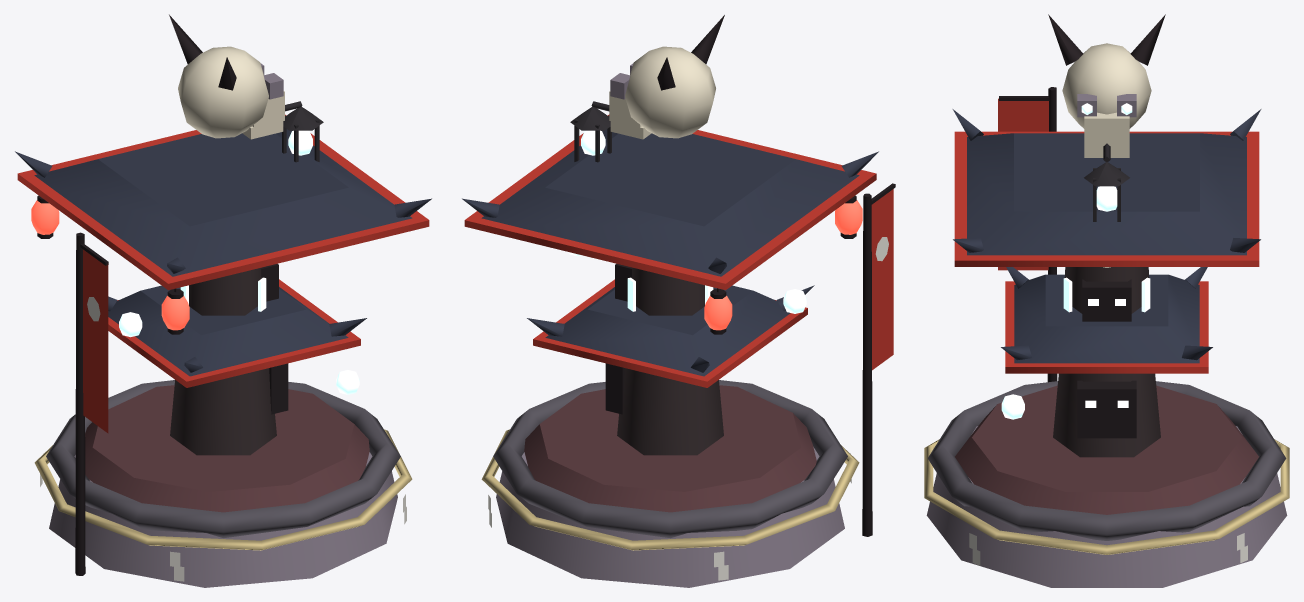
Rendered from tower_necromancer.glb.
3 renders of one model, left to right at view 1: azimuth 30°, elevation 25°; view 2: azimuth 150°, elevation 25°; view 3: azimuth 270°, elevation 25°, orthographic.
Visible parts, largest first — view 1: deco_eave_0_roof, grave_soil, base, base_rim, deco_eave_1_roof, deco_eave_0_rim, pole_0, skull_cranium, deco_shimenawa_rope, deco_nobori_cloth, deco_eave_1_rim, deco_nobori_pole (+8 smaller); view 2: deco_eave_0_roof, grave_soil, base, base_rim, deco_eave_1_roof, deco_eave_0_rim, pole_0, skull_cranium, deco_shimenawa_rope, deco_eave_1_rim, deco_nobori_cloth, deco_nobori_pole (+8 smaller); view 3: deco_eave_0_roof, grave_soil, base, base_rim, deco_eave_1_roof, deco_eave_0_rim, pole_0, deco_shimenawa_rope, skull_cranium, deco_eave_1_rim, pole_face_0, pole_face_1 (+11 smaller).
Part boxes in pixels (left/top/right/bottom): deco_eave_0_roof: left=34, top=129, right=412, bottom=276; grave_soil: left=85, top=385, right=369, bottom=512; base: left=49, top=452, right=397, bottom=587; base_rim: left=46, top=380, right=400, bottom=538; deco_eave_1_roof: left=108, top=285, right=348, bottom=376; deco_eave_0_rim: left=17, top=114, right=429, bottom=290; pole_0: left=170, top=368, right=276, bottom=455; skull_cranium: left=178, top=46, right=268, bottom=138; deco_shimenawa_rope: left=34, top=429, right=412, bottom=550; deco_nobori_cloth: left=83, top=249, right=108, bottom=433; deco_eave_1_rim: left=108, top=279, right=360, bottom=387; deco_nobori_pole: left=75, top=232, right=85, bottom=575; deco_eave_0_roof: left=481, top=129, right=859, bottom=276; grave_soil: left=524, top=385, right=816, bottom=512; base: left=496, top=447, right=844, bottom=587; base_rim: left=493, top=380, right=847, bottom=538; deco_eave_1_roof: left=545, top=285, right=790, bottom=376; deco_eave_0_rim: left=464, top=114, right=876, bottom=290; pole_0: left=617, top=368, right=723, bottom=455; skull_cranium: left=625, top=46, right=715, bottom=138; deco_shimenawa_rope: left=481, top=429, right=859, bottom=550; deco_eave_1_rim: left=533, top=279, right=807, bottom=387; deco_nobori_cloth: left=871, top=189, right=893, bottom=370; deco_nobori_pole: left=862, top=193, right=872, bottom=536; deco_eave_0_roof: left=967, top=133, right=1246, bottom=255; grave_soil: left=955, top=385, right=1258, bottom=514; base: left=926, top=426, right=1287, bottom=587; base_rim: left=927, top=381, right=1286, bottom=540; deco_eave_1_roof: left=1014, top=274, right=1199, bottom=363; deco_eave_0_rim: left=954, top=131, right=1259, bottom=266; pole_0: left=1053, top=373, right=1160, bottom=457; deco_shimenawa_rope: left=924, top=439, right=1289, bottom=554; skull_cranium: left=1062, top=43, right=1151, bottom=128; deco_eave_1_rim: left=1005, top=281, right=1208, bottom=373; pole_face_0: left=1077, top=380, right=1136, bottom=438; pole_face_1: left=1082, top=279, right=1131, bottom=321.
Bounding box in the file's own units: 0.4387 × 0.5985 × 0.4052.
